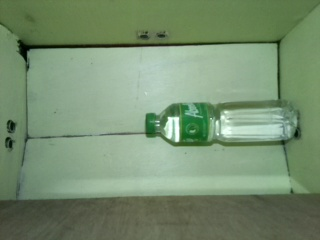bottle: (144, 99, 300, 150)
